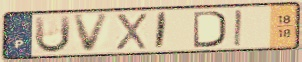D: (192, 9, 229, 49)
I: (153, 11, 170, 51), (232, 8, 245, 48)
U: (33, 14, 73, 55)
V: (71, 12, 113, 54)
X: (113, 12, 149, 52)
